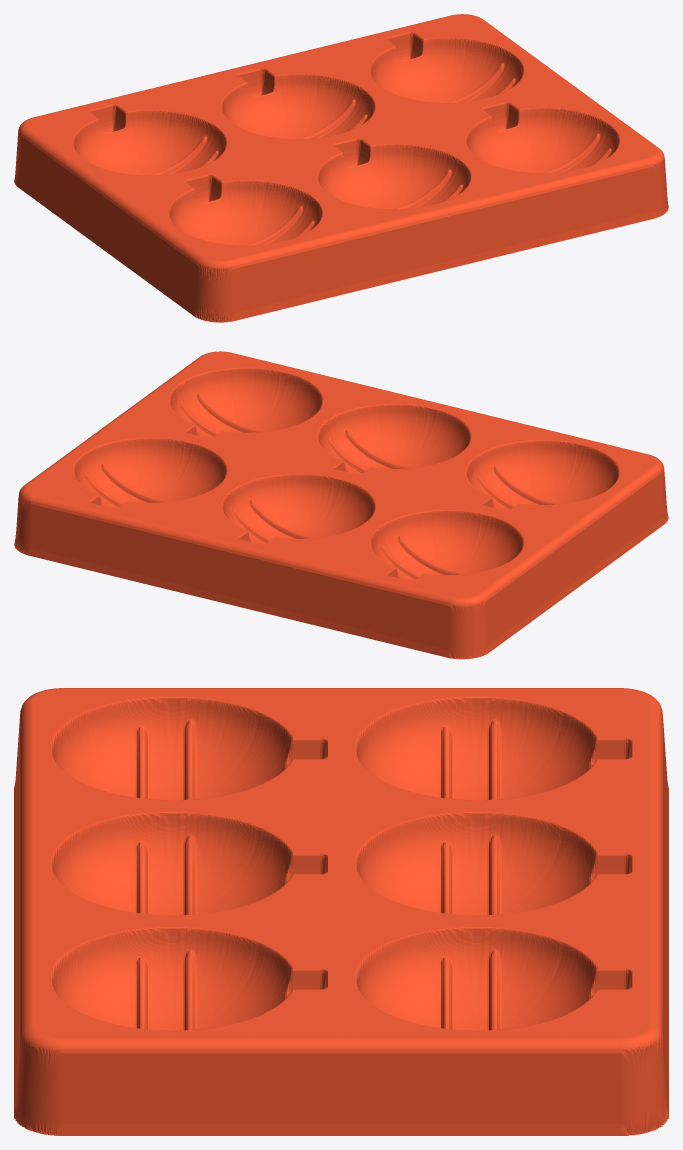
The model's file is mold.glb.
3 renders of one model, top to bottom at view 1: azimuth 30°, elevation 25°; view 2: azimuth 150°, elevation 25°; view 3: azimuth 270°, elevation 25°, orthographic. The views are drawn at different scales.
Visible parts, largest first — view 1: geometry_0; view 2: geometry_0; view 3: geometry_0.
Part boxes in pixels (left/top/right/bottom): geometry_0: left=14, top=14, right=668, bottom=322; geometry_0: left=14, top=351, right=668, bottom=659; geometry_0: left=14, top=688, right=668, bottom=1135.
Bounding box in the file's own units: 0.1612 × 0.0185 × 0.1222.
